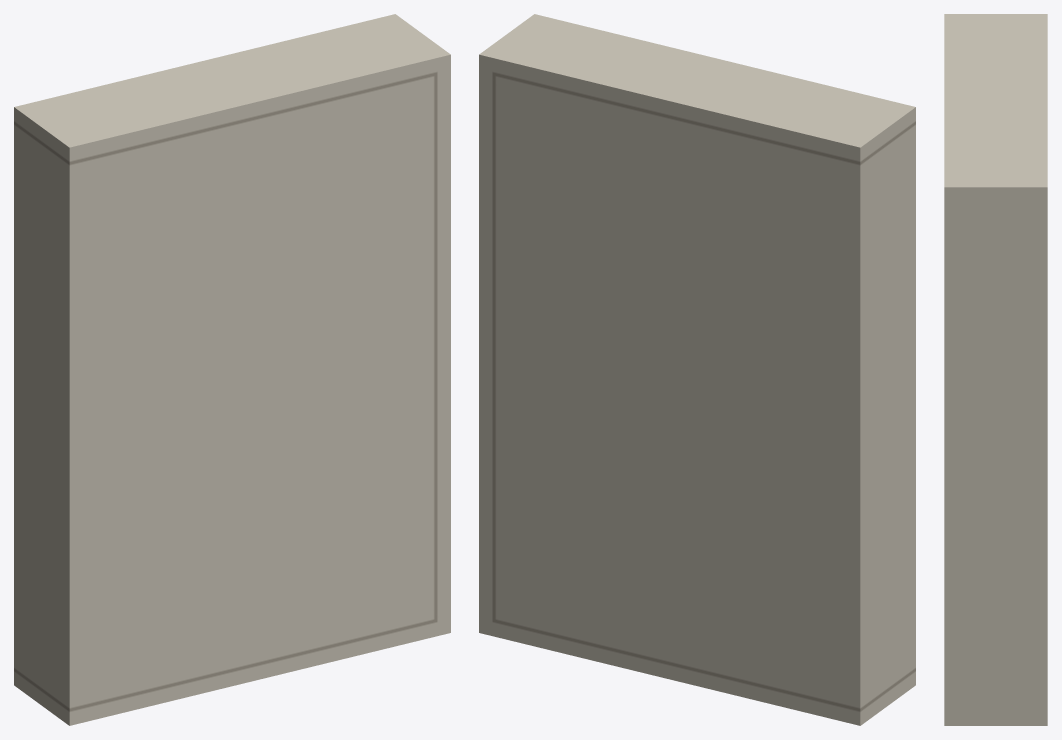
File: nes_box.glb
3 renders of one model, left to right at view 1: azimuth 30°, elevation 25°; view 2: azimuth 150°, elevation 25°; view 3: azimuth 270°, elevation 25°, orthographic. The views are drawn at different scales.
Visible parts, largest first — view 1: nes_box; view 2: nes_box; view 3: nes_box.
Boxes of the visible parts, x1,y1,x2,y2 form: nes_box: (14,14,450,725); nes_box: (479,14,915,725); nes_box: (944,14,1047,725).
Bounding box in the file's own units: 0.127 × 0.184 × 0.032.
1 material, 1 textured.
